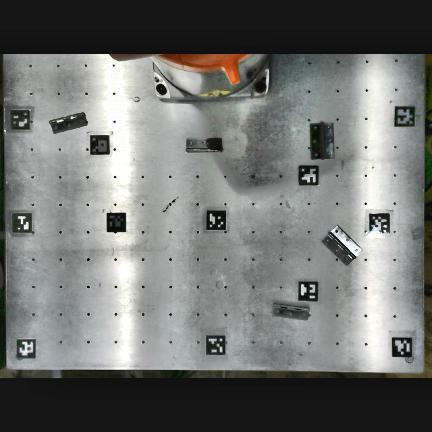hinge: (322, 226, 360, 264), (309, 122, 333, 158), (49, 112, 86, 132), (272, 303, 308, 318), (185, 138, 221, 151)
marker: (394, 107, 415, 128), (12, 213, 32, 234), (370, 214, 390, 234), (299, 166, 319, 186), (298, 282, 318, 302), (206, 337, 226, 357), (10, 111, 29, 132), (207, 210, 226, 231), (392, 338, 412, 357), (17, 339, 36, 359), (107, 213, 126, 232), (90, 136, 109, 154)
